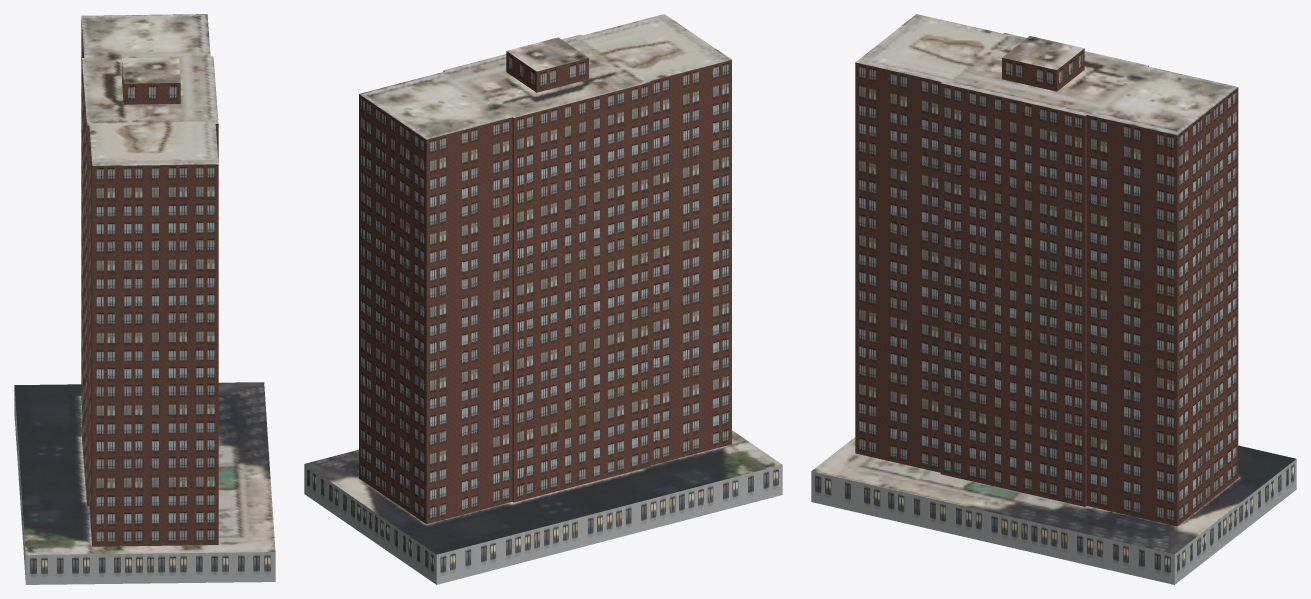
The model's file is building12.fbx.
3 views of the same model, side by side, from view 1: azimuth 30°, elevation 25°; view 2: azimuth 150°, elevation 25°; view 3: azimuth 270°, elevation 25° (orthographic). The views are drawn at different scales.
Visible parts, largest first — view 1: Object.1496, geometryt040100010000000110110100010110110100110st61_Fi_750b, geometryt040100010000000110110100010110110100110st58_Fi_8309, geometryt040100010000000110110100010110110100110st59_Fi_b1ea, geometryt040100010000000110110100010110110100110st60_Fi_ed9e; view 2: Object.1496, geometryt040100010000000110110100010110110100110st58_Fi_8309, geometryt040100010000000110110100010110110100110st61_Fi_750b, geometryt040100010000000110110100010110110100110st59_Fi_b1ea, geometryt040100010000000110110100010110110100110st60_Fi_ed9e; view 3: Object.1496, geometryt040100010000000110110100010110110100110st58_Fi_8309, geometryt040100010000000110110100010110110100110st61_Fi_750b, geometryt040100010000000110110100010110110100110st59_Fi_b1ea, geometryt040100010000000110110100010110110100110st60_Fi_ed9e.
Part boxes in pixels (bbox=[...]): Object.1496: bbox=[81, 20, 216, 546]; geometryt040100010000000110110100010110110100110st61_Fi_750b: bbox=[14, 14, 275, 554]; geometryt040100010000000110110100010110110100110st58_Fi_8309: bbox=[82, 29, 218, 546]; geometryt040100010000000110110100010110110100110st59_Fi_b1ea: bbox=[14, 391, 273, 577]; geometryt040100010000000110110100010110110100110st60_Fi_ed9e: bbox=[14, 386, 275, 584]; Object.1496: bbox=[360, 52, 729, 523]; geometryt040100010000000110110100010110110100110st58_Fi_8309: bbox=[359, 51, 731, 524]; geometryt040100010000000110110100010110110100110st61_Fi_750b: bbox=[305, 14, 781, 554]; geometryt040100010000000110110100010110110100110st59_Fi_b1ea: bbox=[305, 465, 780, 576]; geometryt040100010000000110110100010110110100110st60_Fi_ed9e: bbox=[304, 464, 782, 584]; Object.1496: bbox=[857, 49, 1237, 525]; geometryt040100010000000110110100010110110100110st58_Fi_8309: bbox=[855, 48, 1238, 526]; geometryt040100010000000110110100010110110100110st61_Fi_750b: bbox=[811, 14, 1296, 553]; geometryt040100010000000110110100010110110100110st59_Fi_b1ea: bbox=[813, 460, 1295, 576]; geometryt040100010000000110110100010110110100110st60_Fi_ed9e: bbox=[811, 459, 1296, 584].
Bounding box in the file's own units: 6212 × 7200 × 7144.
Materials: 5 (5 with a texture image).
